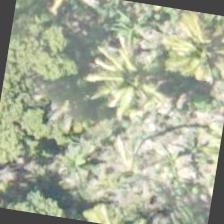Kelapa_Sawit: (83, 32, 186, 136), (142, 5, 223, 101)
